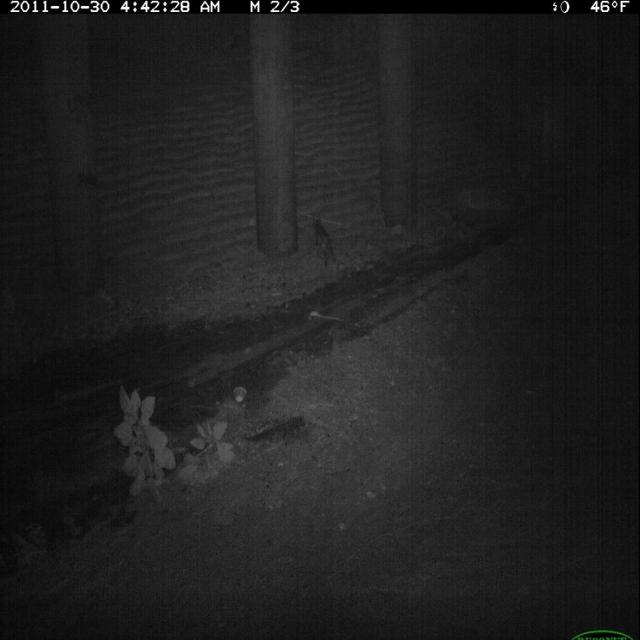cat: (308, 213, 340, 274)
